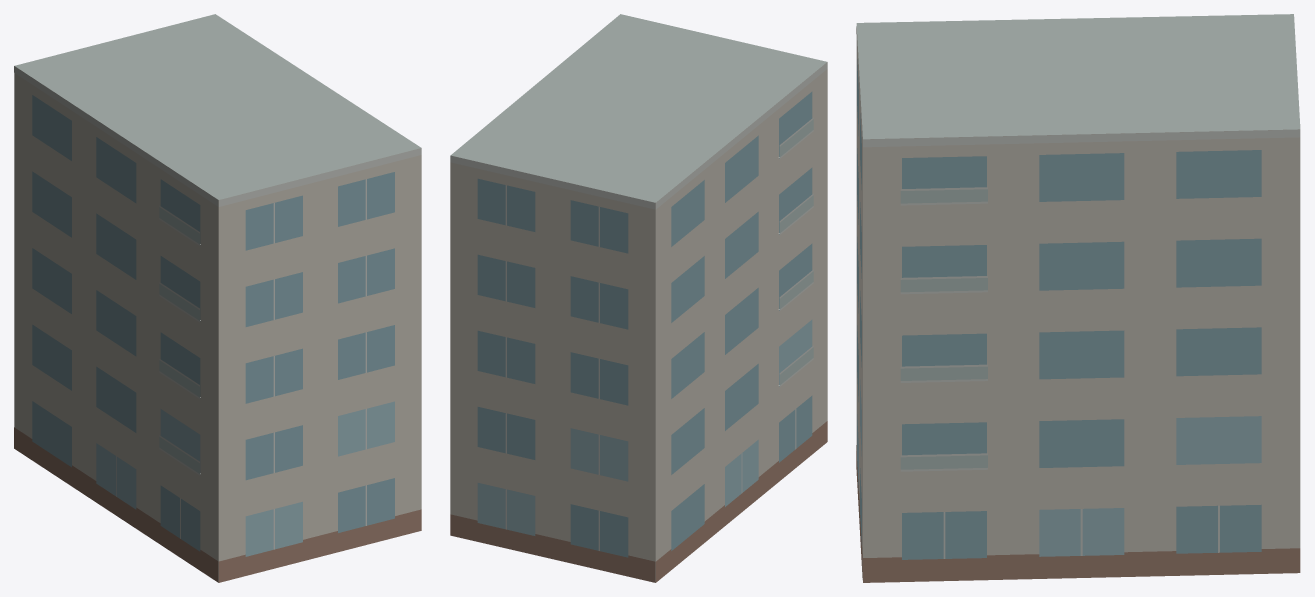
The model's file is survey-upis-32731769.glb.
3 views of the same model, side by side, from view 1: azimuth 30°, elevation 25°; view 2: azimuth 150°, elevation 25°; view 3: azimuth 270°, elevation 25° (orthographic). The views are drawn at different scales.
Visible parts, largest first — view 1: survey-upis-32731769.tmp; view 2: survey-upis-32731769.tmp; view 3: survey-upis-32731769.tmp.
Boxes of the visible parts, x1,y1,x2,y2 form: survey-upis-32731769.tmp: [14, 14, 421, 582]; survey-upis-32731769.tmp: [450, 14, 827, 582]; survey-upis-32731769.tmp: [856, 14, 1300, 582].
Bounding box in the file's own units: 8.13 × 13.4 × 12.17.
